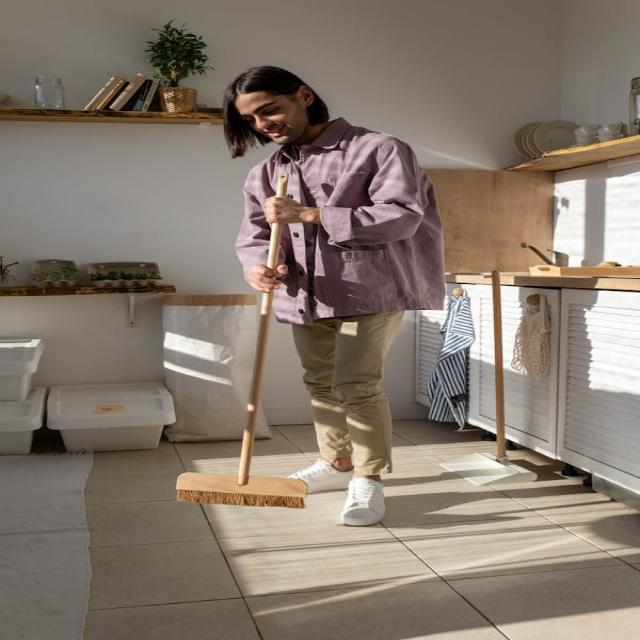Real human 2: (205, 60, 478, 538)
